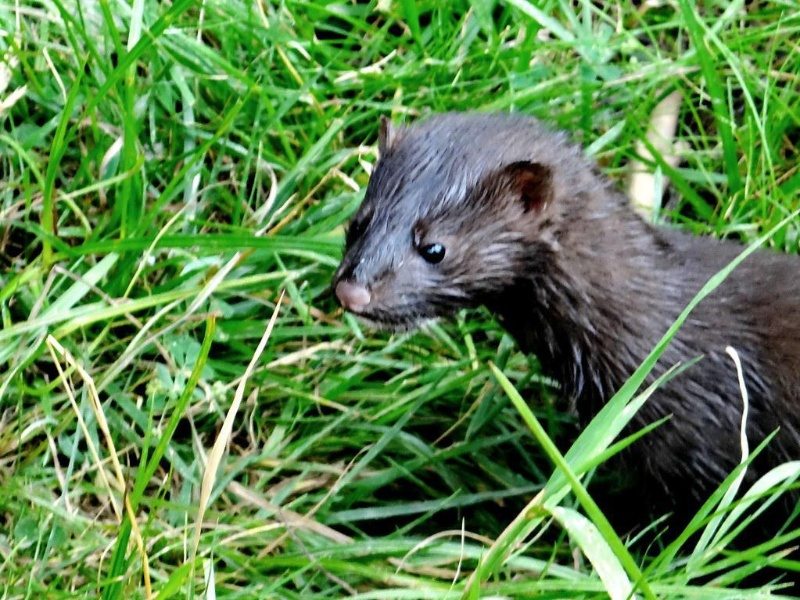minkish: (331, 108, 800, 560)
